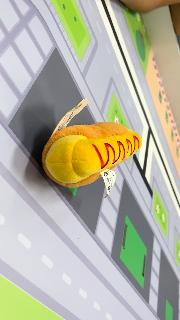hotdog: (42, 121, 142, 187)
